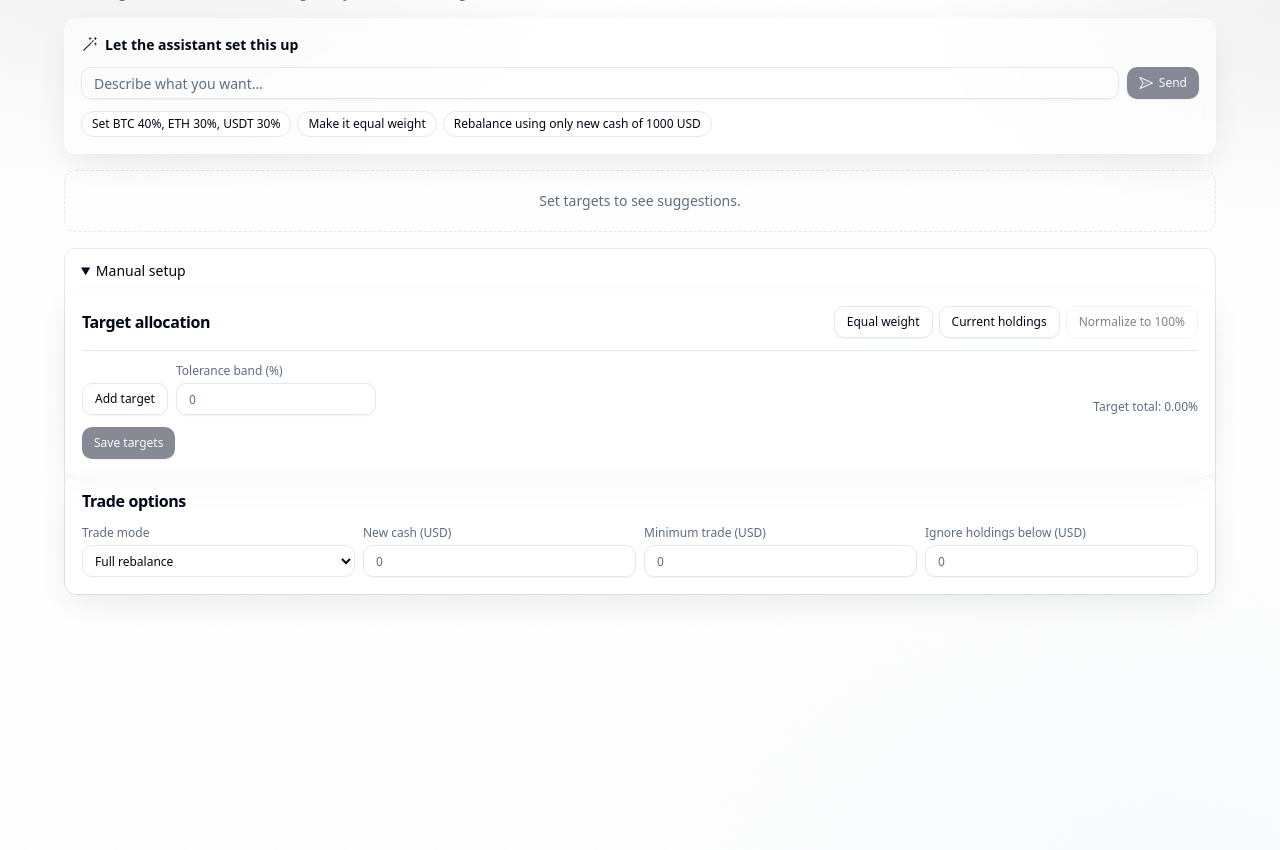
Test: Rebalance page › blocks a target draft that does not sum to 100%
The width and height of the screenshot is (1280, 850).
Expected: the text "Set targets to see suggestions." is shown, [64,170,1216,232]
Click the button "Equal weight" at (883,322), box [834,306,933,338]
(page scrolled)
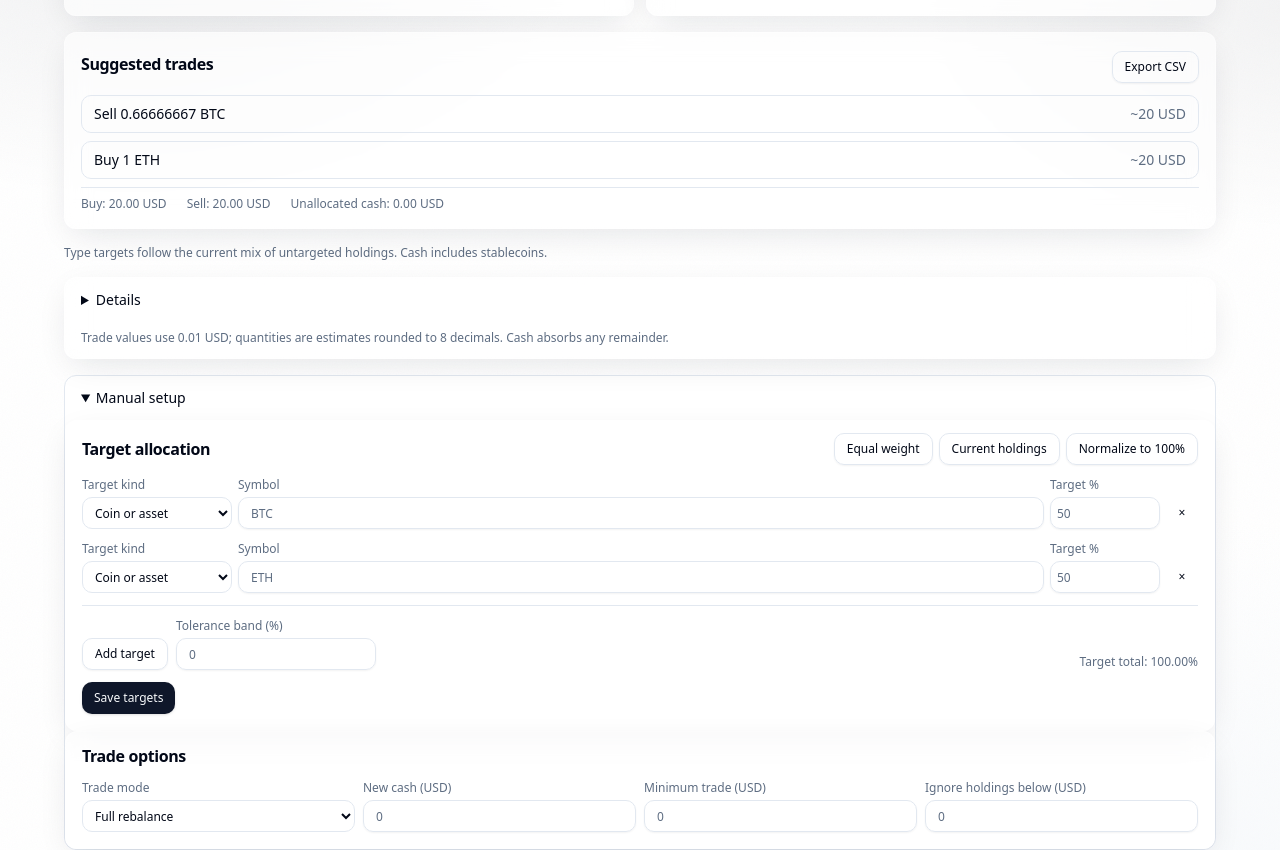
Replace the text in the number field named "Target percentage for BTC" with "40" at (1105,513), box [1050,497,1160,529]
(page scrolled)
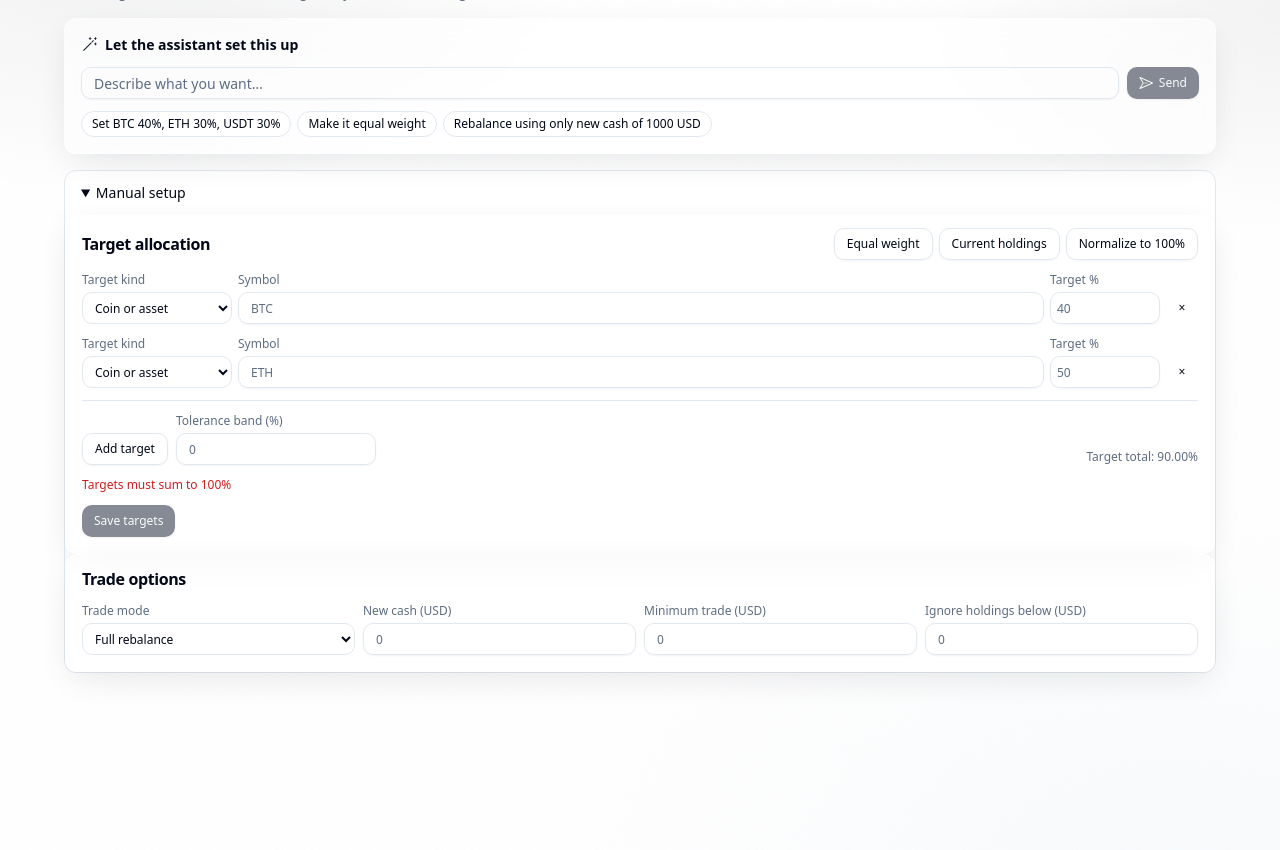
Expected: the message reads "Targets must sum to 100%", [82,476,231,493]
Expected: the button "Save targets" is disabled, [82,505,175,537]
Click the button "Normalize to 100%" at (1132,244), box [1066,228,1198,260]
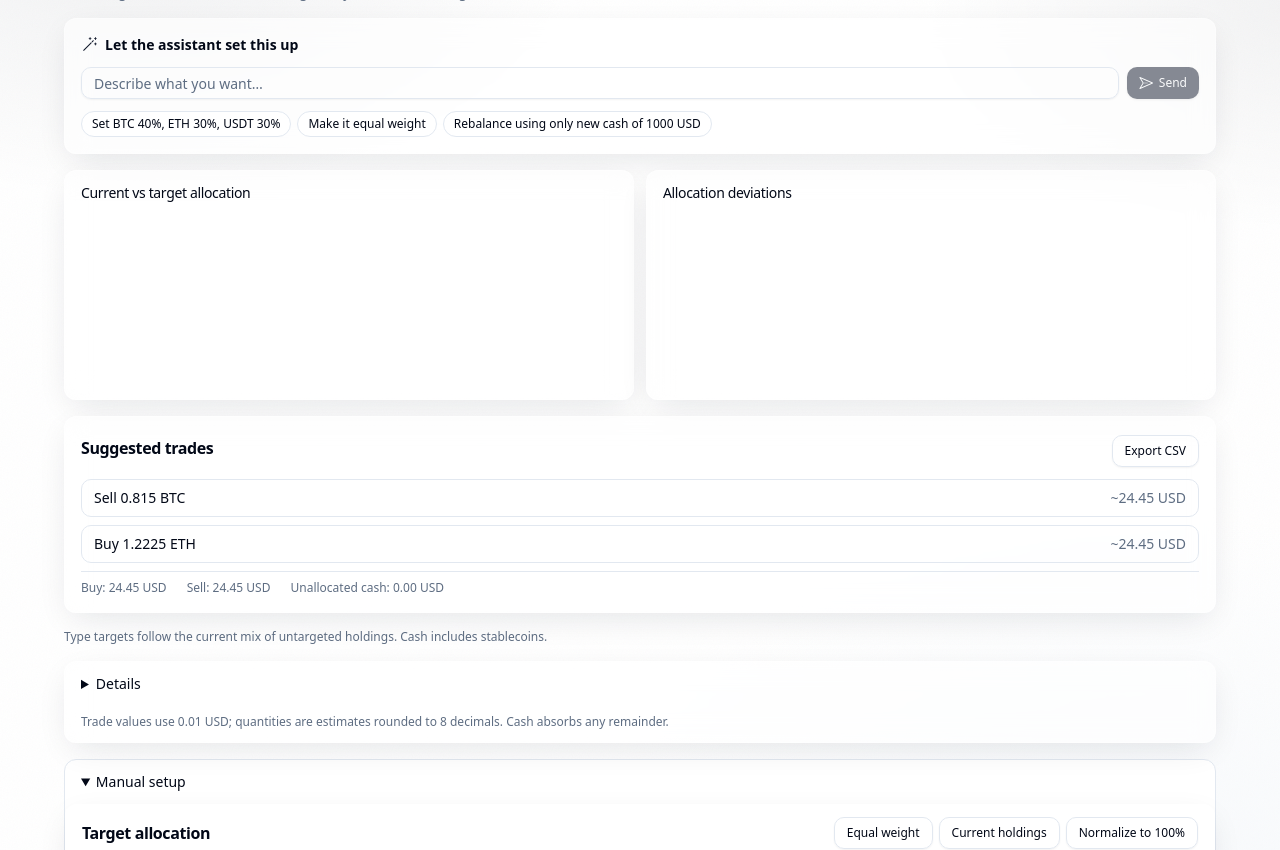
Expected: the message "Targets must sum to 100%" is gone
